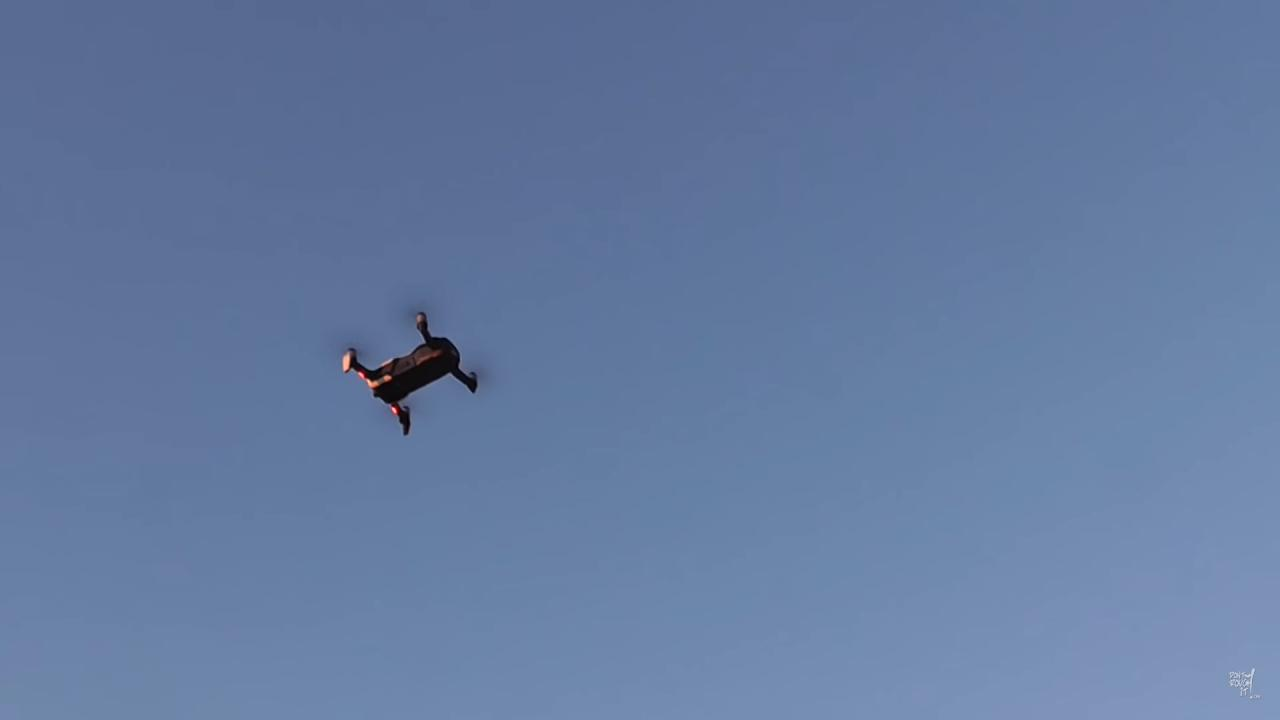Drone: (318, 288, 510, 452)
